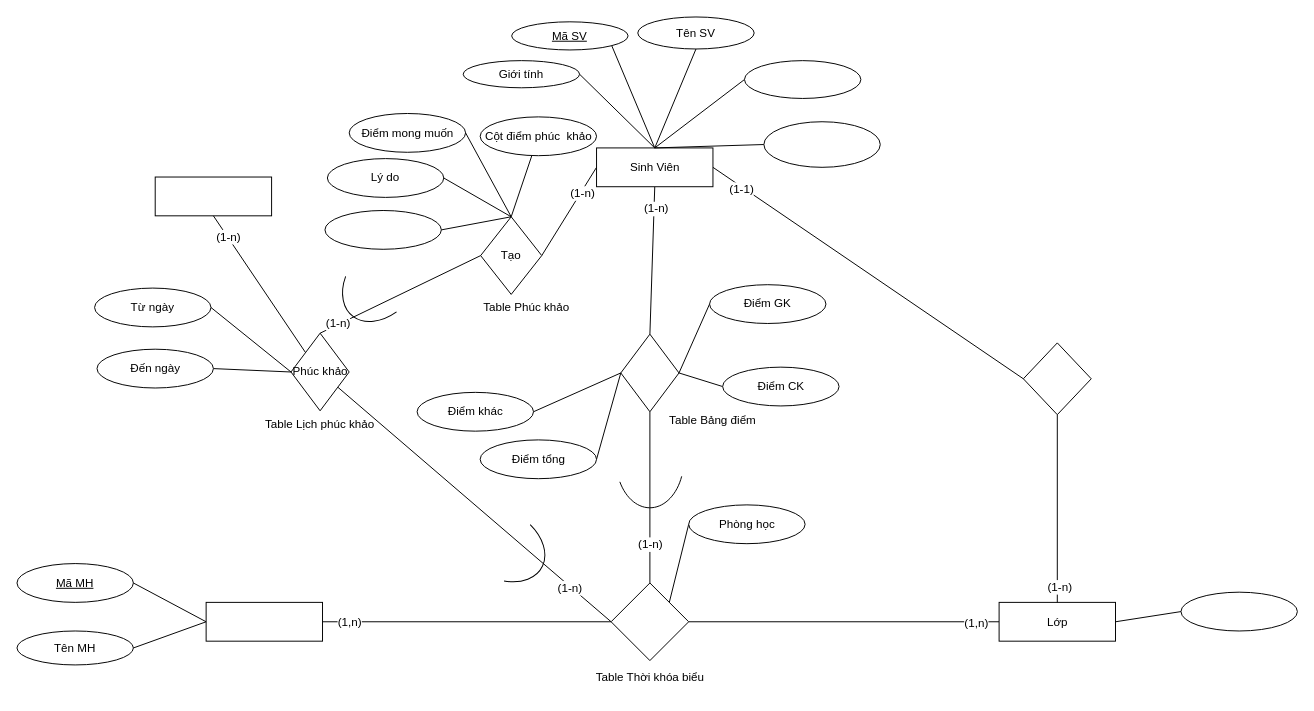
The diagram is 1314 pixels wide and 711 high, and some of its shapes have lost their labels. The centre of each missing label's shape, as x and y in pixels:
CMND: (x=821, y=144)
Giáo vụ: (x=213, y=196)
Mã lớp: (x=1238, y=611)
Môn học: (x=264, y=621)
Mở: (x=649, y=621)
Thuộc: (x=1056, y=378)
Tình trạng: (x=382, y=229)
Đăng kí: (x=649, y=372)
Địa chỉ: (x=802, y=79)
